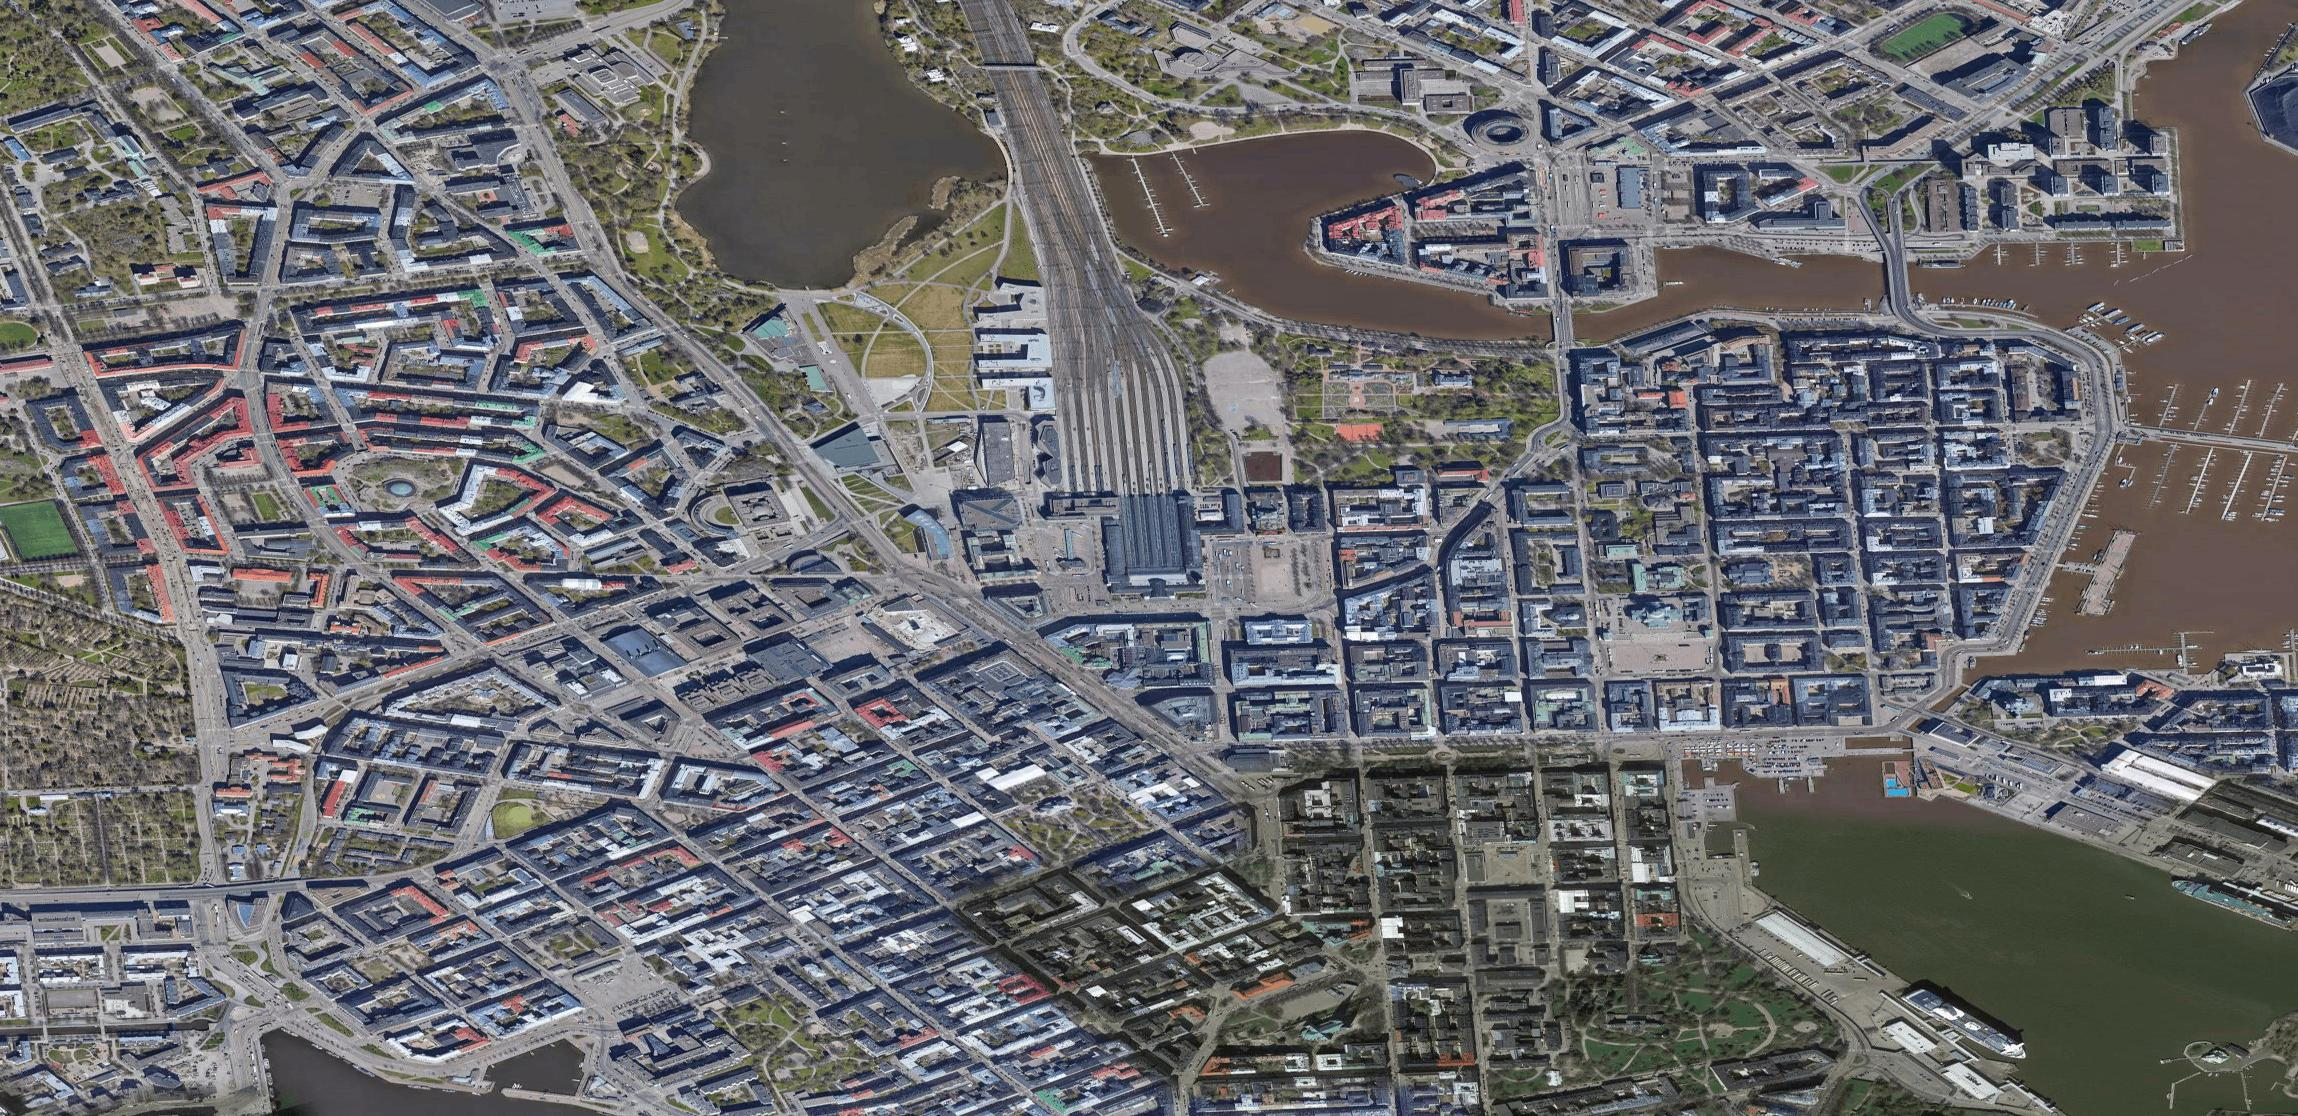bridge: (1869, 243, 1924, 317), (1543, 290, 1581, 349)
train_station: (1052, 459, 1247, 607)
